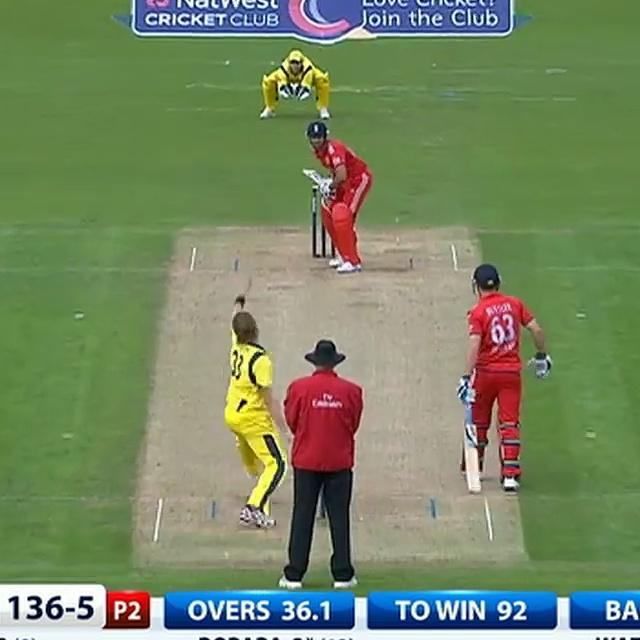umpire: (272, 333, 376, 592)
